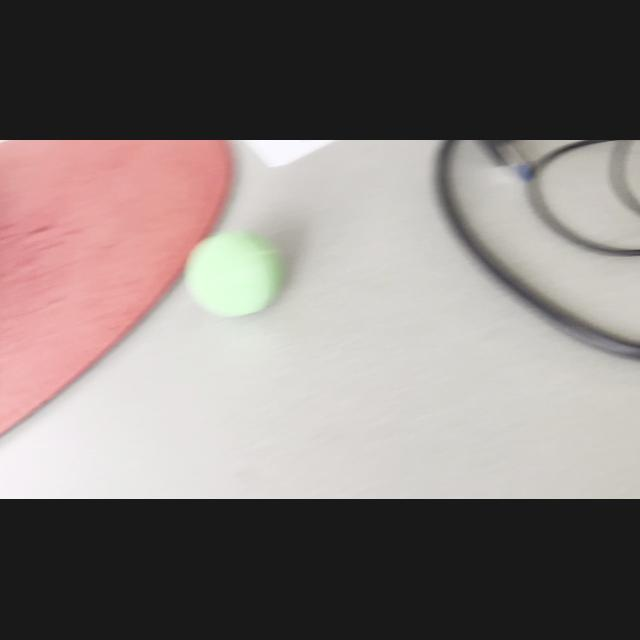objects: (178, 224, 292, 326)
